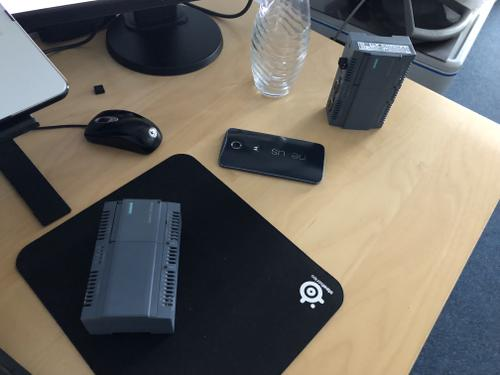device: (81, 199, 182, 335)
